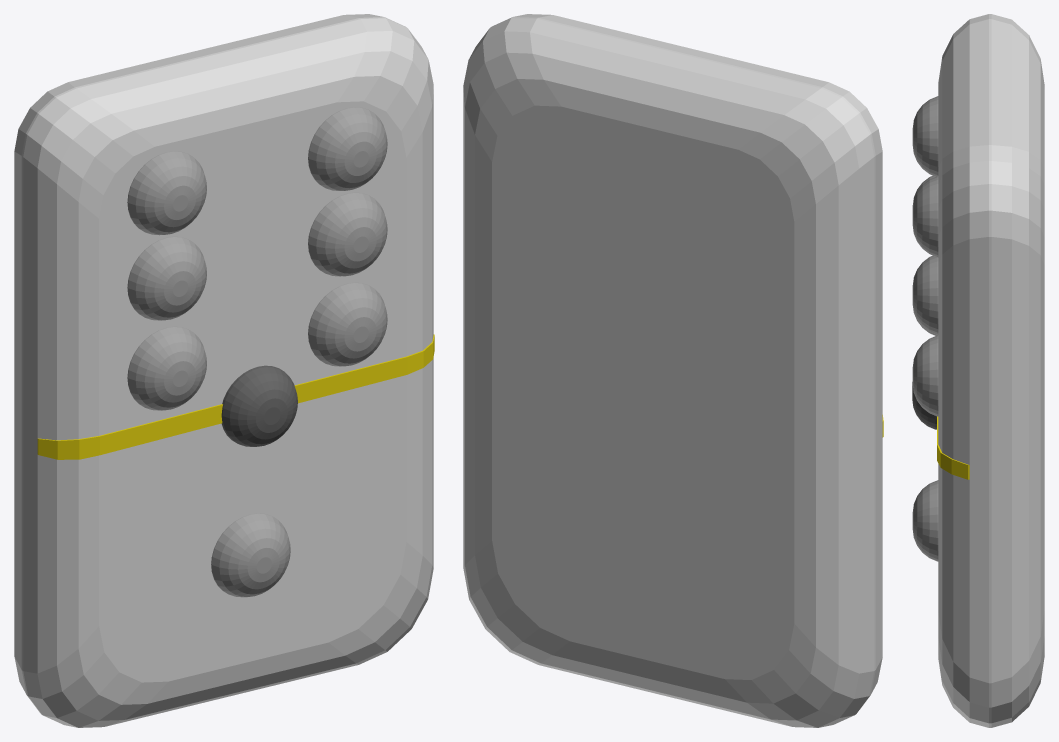
File: Domino.fbx
3 views of the same model, side by side, from view 1: azimuth 30°, elevation 25°; view 2: azimuth 150°, elevation 25°; view 3: azimuth 270°, elevation 25° (orthographic). The views are drawn at different scales.
Visible parts, largest first — view 1: Domino cuerpo, Punto 7, Punto 6, Punto 5, Punto 2, Punto 4, Punto 3, Punto 1; view 2: Domino cuerpo; view 3: Domino cuerpo, Punto 6, Punto 4, Punto 7, Punto 1, Punto 5.
Boxes of the visible parts, left/top/right/bottom form: Domino cuerpo: left=14, top=14, right=434, bottom=727; Punto 7: left=211, top=513, right=290, bottom=597; Punto 6: left=308, top=282, right=387, bottom=366; Punto 5: left=308, top=192, right=387, bottom=276; Punto 2: left=127, top=236, right=206, bottom=320; Punto 4: left=308, top=107, right=387, bottom=190; Punto 3: left=127, top=326, right=206, bottom=410; Punto 1: left=127, top=151, right=206, bottom=235; Domino cuerpo: left=463, top=14, right=883, bottom=727; Domino cuerpo: left=912, top=14, right=1044, bottom=727; Punto 6: left=912, top=335, right=938, bottom=416; Punto 4: left=912, top=176, right=938, bottom=257; Punto 7: left=912, top=480, right=938, bottom=561; Punto 1: left=912, top=96, right=938, bottom=176; Punto 5: left=912, top=255, right=938, bottom=334.
Bounding box in the file's own units: 393 × 595 × 123.
